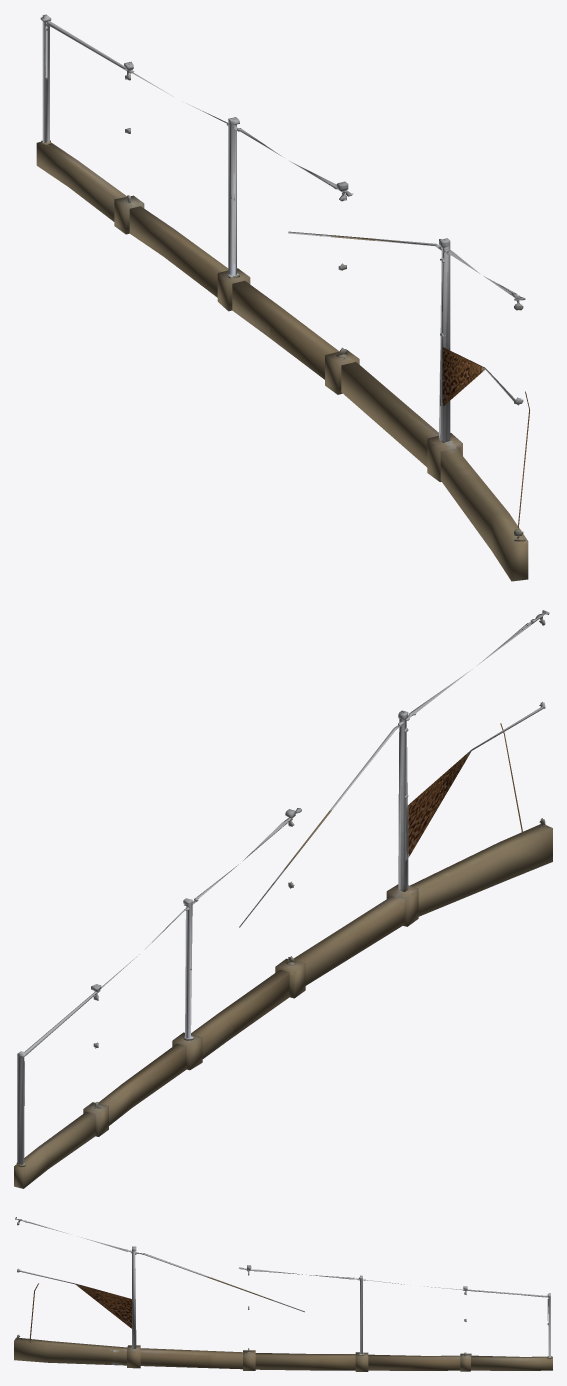
File: selected.glb
3 views of the same model, one above another, from view 1: azimuth 30°, elevation 25°; view 2: azimuth 150°, elevation 25°; view 3: azimuth 270°, elevation 25° (orthographic). The views are drawn at different scales.
Visible parts, largest first — view 1: tripo_node_23aa6859-9314-46fa-b894-bf2ba1a8fb43; view 2: tripo_node_23aa6859-9314-46fa-b894-bf2ba1a8fb43; view 3: tripo_node_23aa6859-9314-46fa-b894-bf2ba1a8fb43.
Part boxes in pixels (left/top/right/bottom): tripo_node_23aa6859-9314-46fa-b894-bf2ba1a8fb43: left=36, top=14, right=529, bottom=581; tripo_node_23aa6859-9314-46fa-b894-bf2ba1a8fb43: left=14, top=610, right=552, bottom=1188; tripo_node_23aa6859-9314-46fa-b894-bf2ba1a8fb43: left=14, top=1217, right=552, bottom=1371.
Size of the model in its own units: 0.084 by 0.2871 by 0.998.
Materials: 1 (1 with a texture image).
